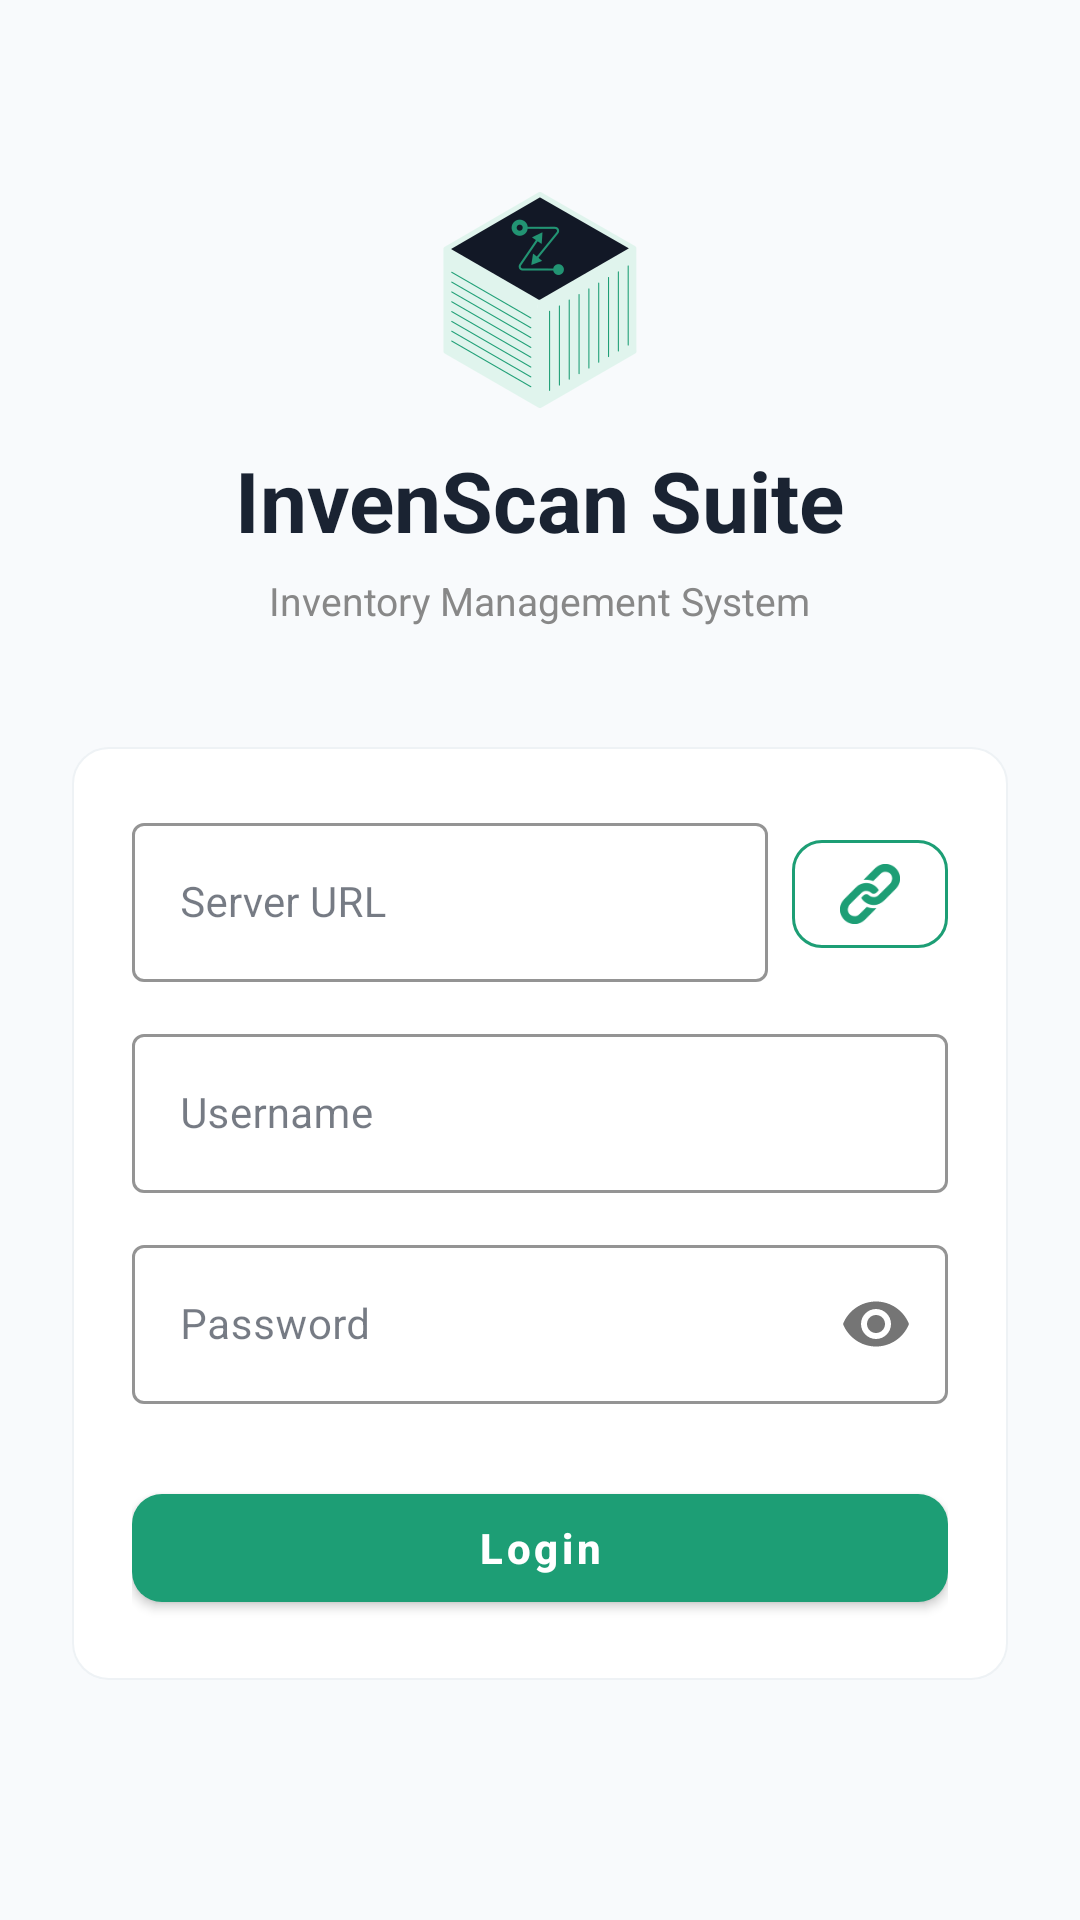

Where to tap for icons on this 1080px×1920px app screen, as [x,y]:
link: [870,894]
